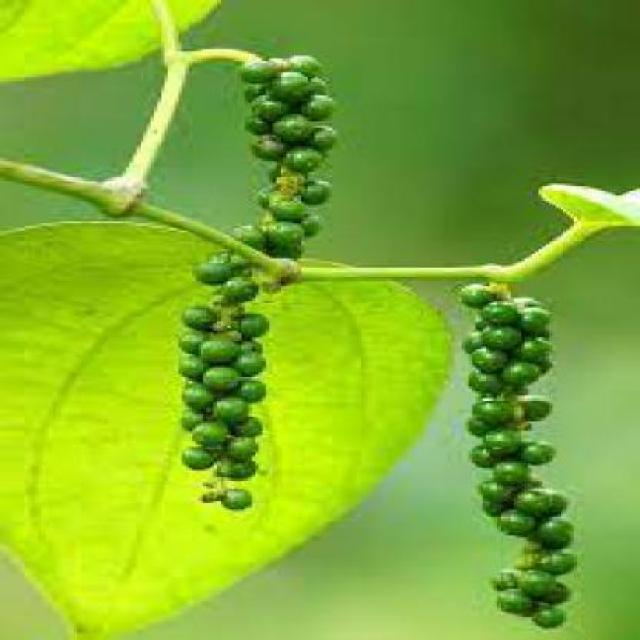UNRIPE: (186, 51, 340, 508), (465, 282, 577, 626)
